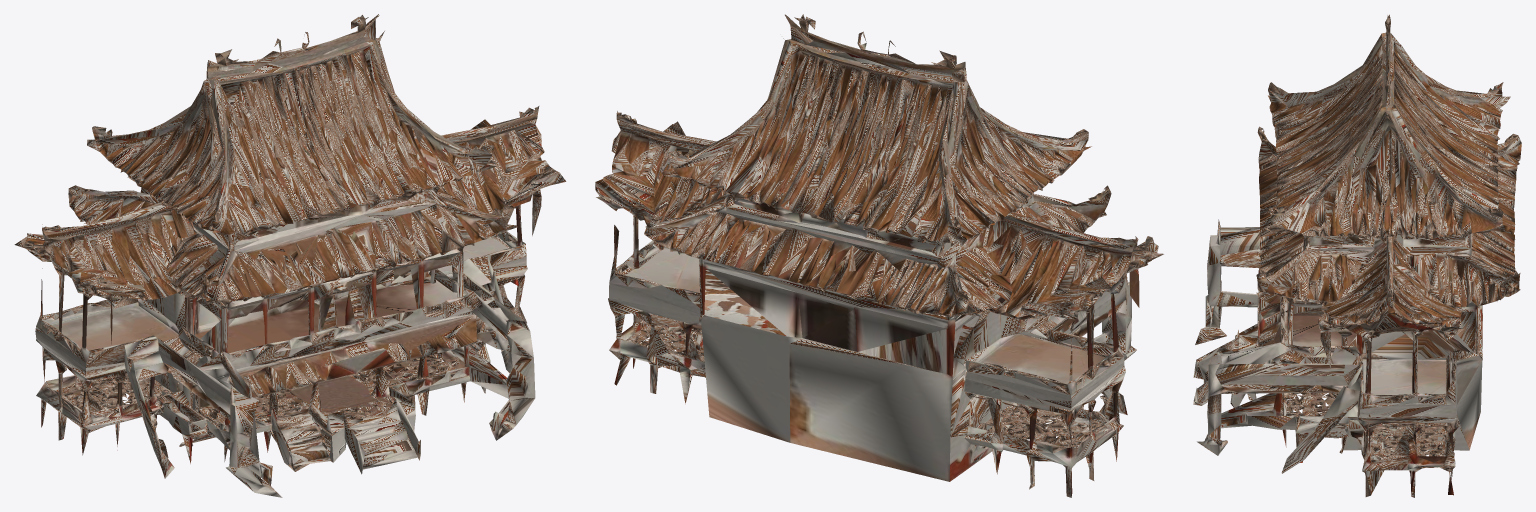
File: palace_grand.mid.glb
3 renders of one model, left to right at view 1: azimuth 30°, elevation 25°; view 2: azimuth 150°, elevation 25°; view 3: azimuth 270°, elevation 25°, orthographic. The views are drawn at different scales.
Size of the model in its own units: 1.89 by 1.33 by 1.13.
1 material, 1 textured.
